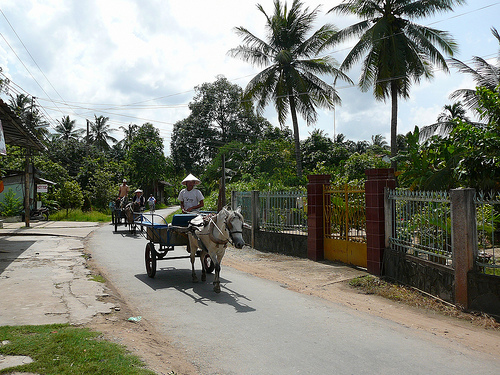horse: (186, 206, 246, 293), (123, 199, 142, 236)
